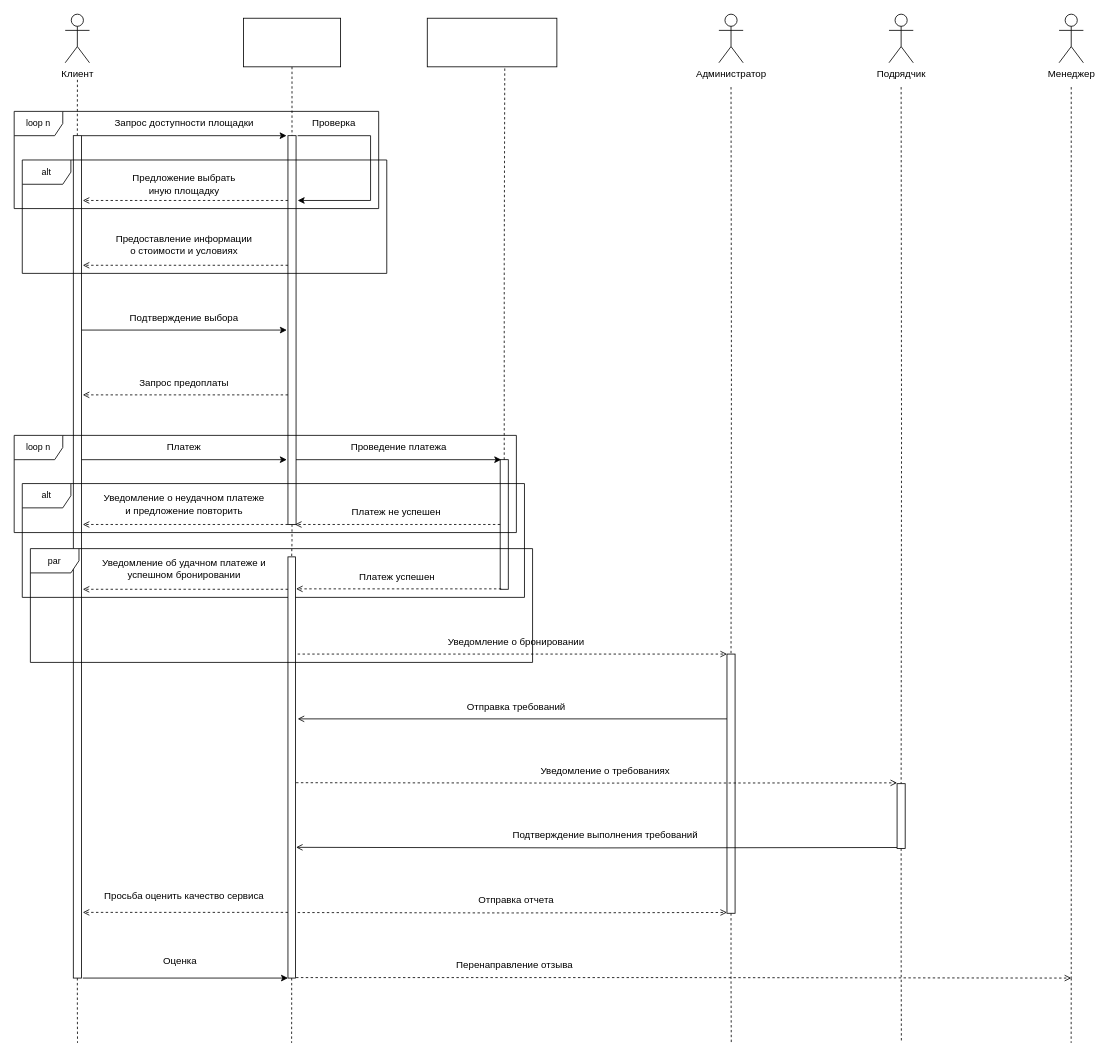
Some shapes in this 1109 by 1058 pixel diagram are drawn without their labels. The shapes that lost their labels are listed below. From the top down, each one's centre as x and y in pixels, then its label:
point 292,42: Система
point 491,42: Платежный шлюз
